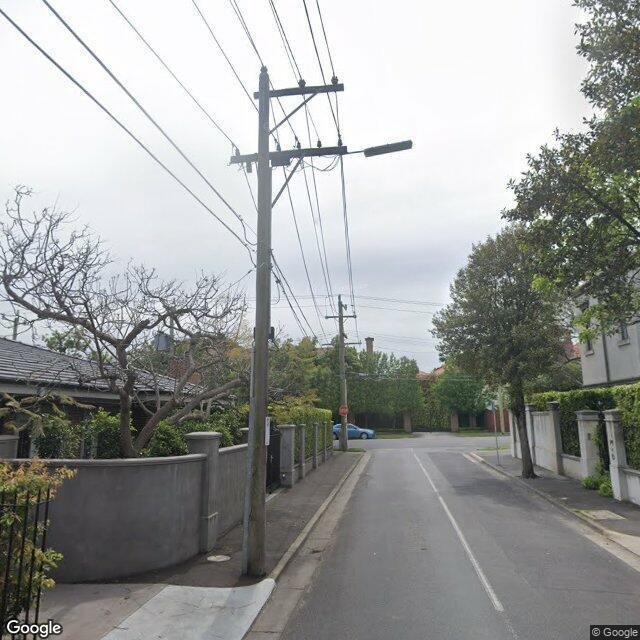HV-transmission: (252, 64, 344, 98)
crossarm: (228, 134, 348, 173), (255, 82, 344, 100), (322, 340, 362, 346), (325, 316, 357, 320)
streetlight: (349, 138, 413, 158)
timber-pole: (243, 72, 271, 576), (338, 302, 348, 450)
